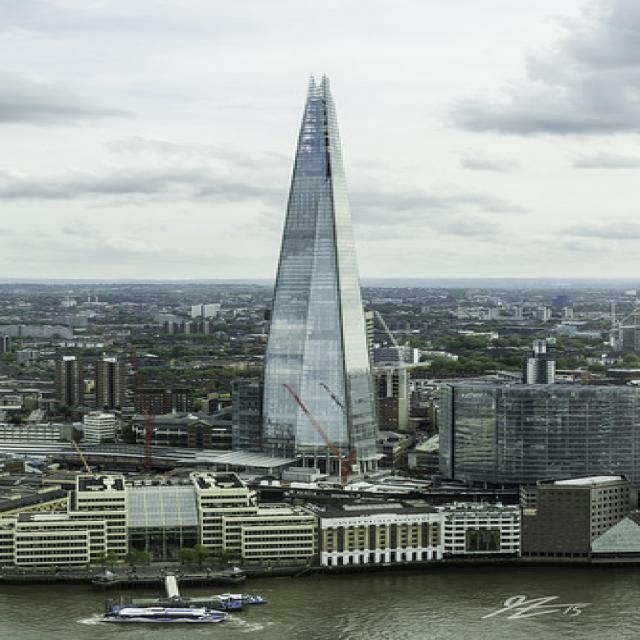building: (249, 69, 391, 479)
